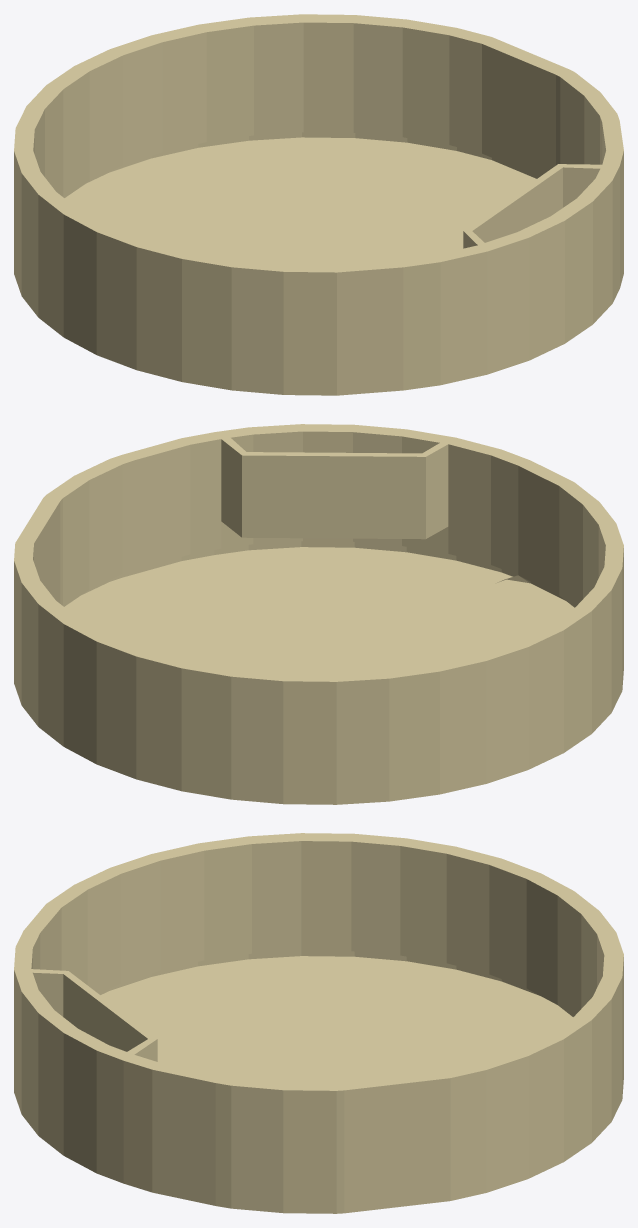
Rendered from walls.fbx.
The picture shows the model from 3 angles, top to bottom: view 1: azimuth 30°, elevation 25°; view 2: azimuth 150°, elevation 25°; view 3: azimuth 270°, elevation 25°; orthographic projection.
Visible parts, largest first — view 1: duvar; view 2: duvar; view 3: duvar.
Part boxes in pixels (x1=…): duvar: x1=14, y1=14, x2=623, y2=395; duvar: x1=14, y1=424, x2=623, y2=804; duvar: x1=14, y1=833, x2=623, y2=1213.
Bounding box in the file's own units: 202 × 44.99 × 202.
